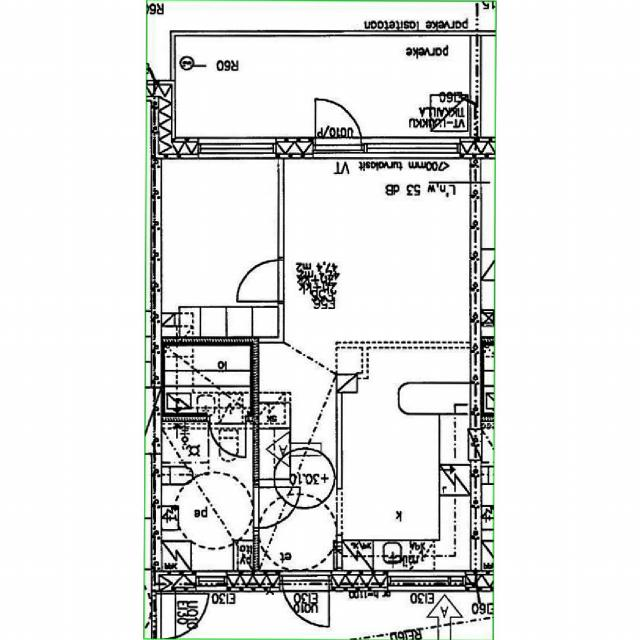door: (282, 570, 329, 637), (314, 92, 360, 158), (236, 259, 284, 301), (252, 487, 300, 527), (210, 413, 246, 458)
